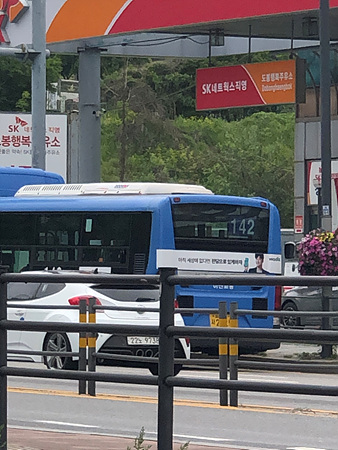bnum: (228, 214, 256, 238)
